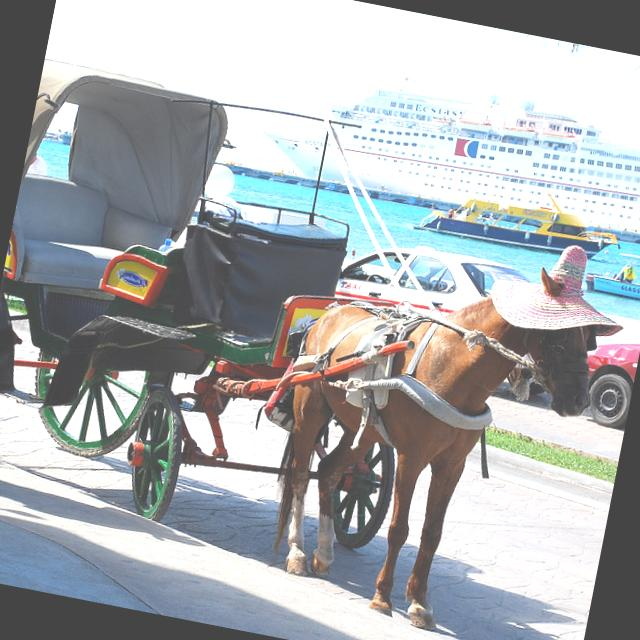Vehicle: (334, 232, 538, 334), (573, 331, 640, 425)
